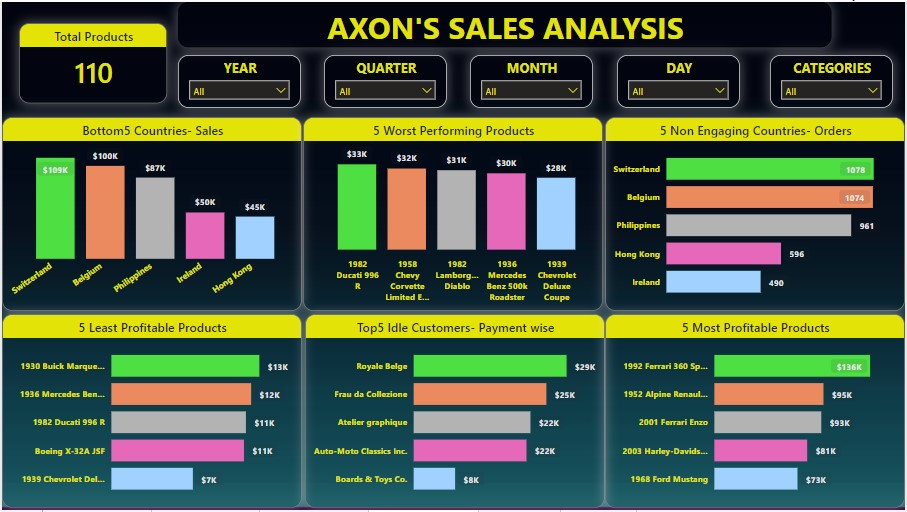

Layout of this report page (visuals, bound fields, positions):
{"tool":"powerbi","page":{"name":"Dashboard 4","canvas":[1280,720],"ordinal":3},"visuals":[{"type":"clusteredBarChart","title":"5 Non Engaging Countries- Orders","fields":{"Category":["Customers.country"],"Y":["Measurables.Total Orders"]},"box":[854.6,163,425.2,275],"z":0},{"type":"columnChart","title":"Bottom5 Countries- Sales","fields":{"Category":["Customers.country"],"Y":["Measurables.Total Sales"]},"box":[0,163,425.2,275],"z":1000},{"type":"clusteredColumnChart","title":"5 Worst Performing Products","fields":{"Category":["Products.productName"],"Y":["Measurables.Total Sales"]},"box":[426.6,163,425.2,275],"z":2000},{"type":"clusteredBarChart","title":"5 Least Profitable Products","fields":{"Category":["Products.productName"],"Y":["Measurables.Total Profit"]},"box":[0,442.2,425.2,275],"z":3000},{"type":"clusteredBarChart","title":"Top5 Idle Customers- Payment wise","fields":{"Category":["Customers.customerName"],"Y":["Measurables.Total Payments"]},"box":[429.4,442.2,425.2,275],"z":4000},{"type":"clusteredBarChart","title":"5 Most Profitable Products","fields":{"Category":["Products.productName"],"Y":["Measurables.Total Profit"]},"box":[854.6,442.2,425.2,275],"z":5000},{"type":"slicer","title":"YEAR","fields":{"Values":["Dim_Date.Year"]},"box":[250,75.5,174.5,75.5],"z":6000},{"type":"slicer","title":"MONTH","fields":{"Values":["Dim_Date.Month Name"]},"box":[662.6,75.5,174.5,75.5],"z":7000},{"type":"slicer","title":"QUARTER","fields":{"Values":["Dim_Date.Quarter"]},"box":[456.3,75.5,174.5,75.5],"z":8000},{"type":"slicer","title":"DAY","fields":{"Values":["Dim_Date.Dayname"]},"box":[872.3,75.5,174.5,75.5],"z":9000},{"type":"slicer","title":"CATEGORIES","fields":{"Values":["Products.productLine"]},"box":[1088.8,75.5,174.5,75.5],"z":10000},{"type":"card","title":"Total Products","fields":{"Values":["Measurables.Product Count"]},"box":[23.5,30.2,209.7,114.1],"z":11000},{"type":"textbox","title":"AXON''S SALES ANALYSIS","box":[250,0,926,63.7],"z":12000}]}

Visuals, with their boxes in screenshot pixels (x1, y1, x2, y2), scaled from the page's 1280x720 canvas onto the 907x512 screenshot:
"5 Non Engaging Countries- Orders" clusteredBarChart: [606, 116, 906, 311]
"Bottom5 Countries- Sales" columnChart: [0, 116, 301, 311]
"5 Worst Performing Products" clusteredColumnChart: [302, 116, 604, 311]
"5 Least Profitable Products" clusteredBarChart: [0, 314, 301, 510]
"Top5 Idle Customers- Payment wise" clusteredBarChart: [304, 314, 606, 510]
"5 Most Profitable Products" clusteredBarChart: [606, 314, 906, 510]
"YEAR" slicer: [177, 54, 301, 107]
"MONTH" slicer: [470, 54, 593, 107]
"QUARTER" slicer: [323, 54, 447, 107]
"DAY" slicer: [618, 54, 742, 107]
"CATEGORIES" slicer: [772, 54, 895, 107]
"Total Products" card: [17, 21, 165, 103]
"AXON''S SALES ANALYSIS" textbox: [177, 0, 833, 45]
